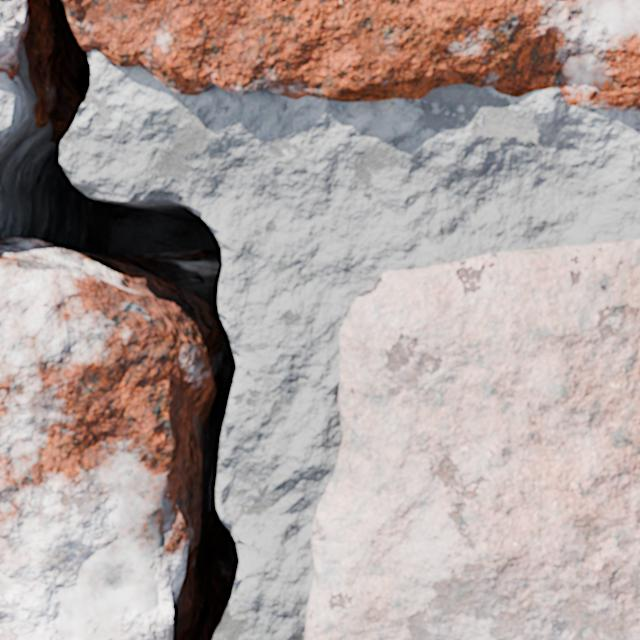broken_brick: (62, 0, 639, 111), (0, 0, 25, 79)
crack: (0, 0, 244, 639), (305, 239, 639, 639)
